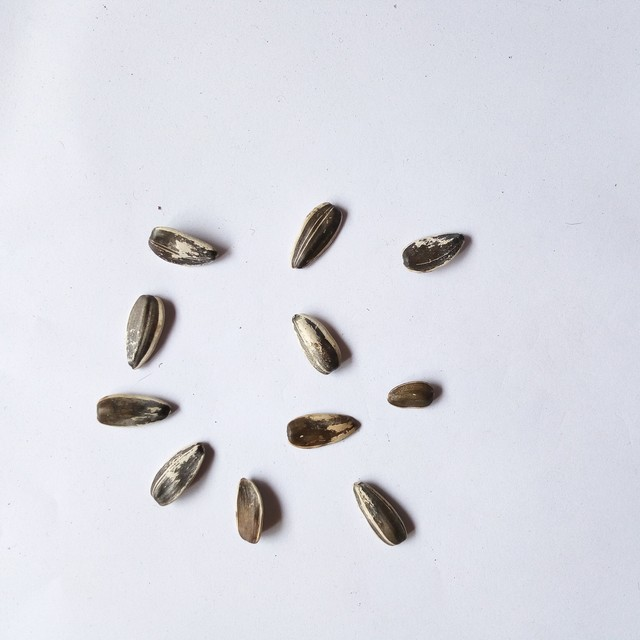girasol: (147, 436, 216, 510), (348, 477, 412, 550), (286, 201, 347, 275), (285, 309, 347, 377), (120, 291, 172, 370), (283, 406, 369, 453), (141, 222, 226, 269), (397, 225, 473, 276), (92, 391, 177, 430), (231, 469, 269, 551), (382, 377, 439, 412)
